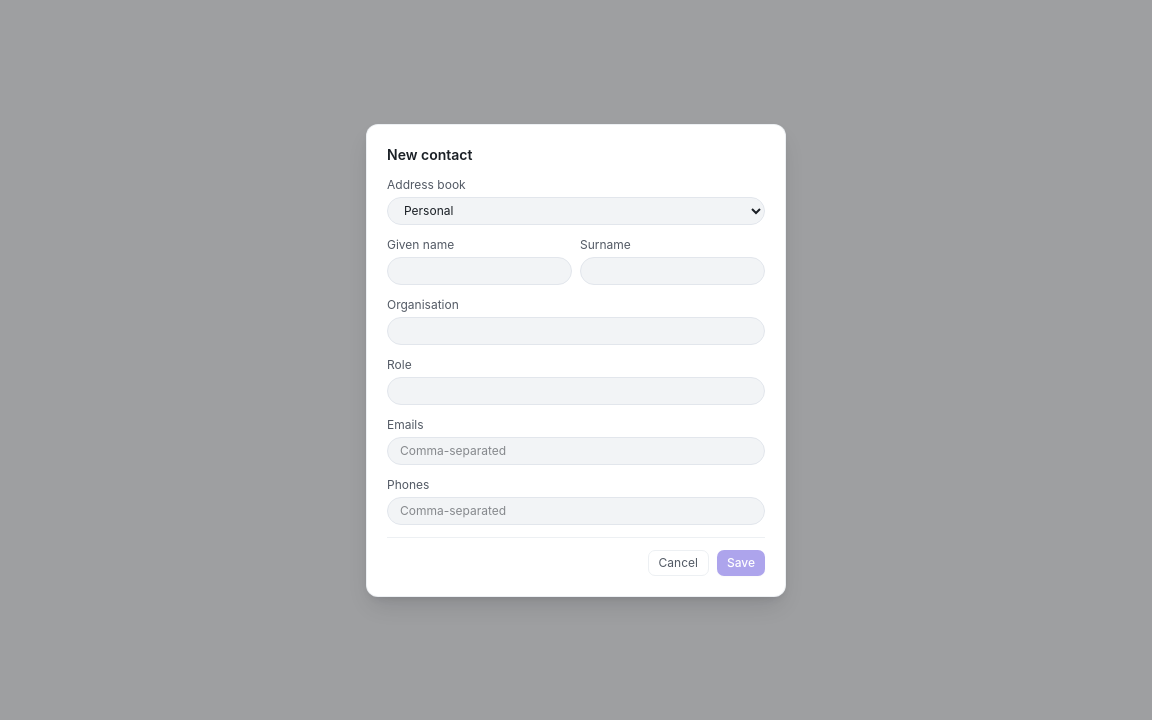
Test case: the contact editor › offers no save while a create names nothing to file it under
This screenshot has width=1152, height=720.
Expected: the dropdown labelled "Address book" is shown, x1=387 y1=196 x2=765 y2=224
Expected: the button "Save" is disabled, x1=717 y1=550 x2=765 y2=576
Type "Astra" into the field labelled "Organisation".
click(576, 330); type("Astra")  # box x1=387 y1=316 x2=765 y2=344
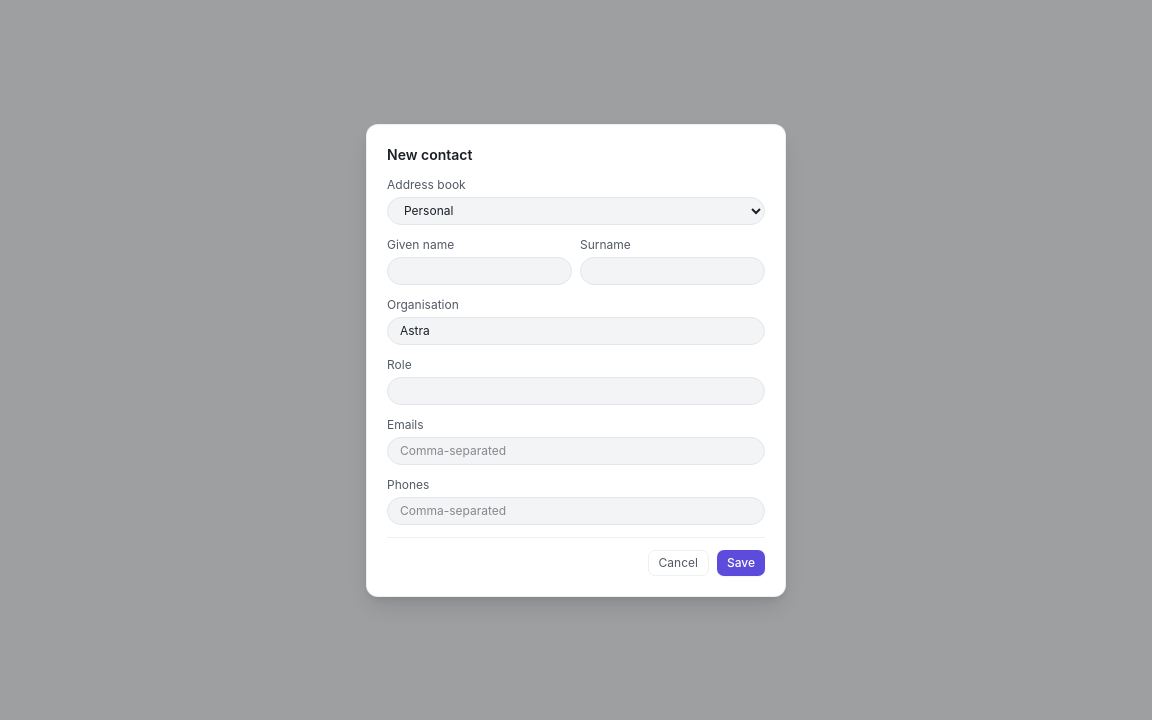
Expected: the button "Save" is enabled, x1=717 y1=550 x2=765 y2=576
Clear the field labelled "Organisation" at [576, 330], box x1=387 y1=316 x2=765 y2=344
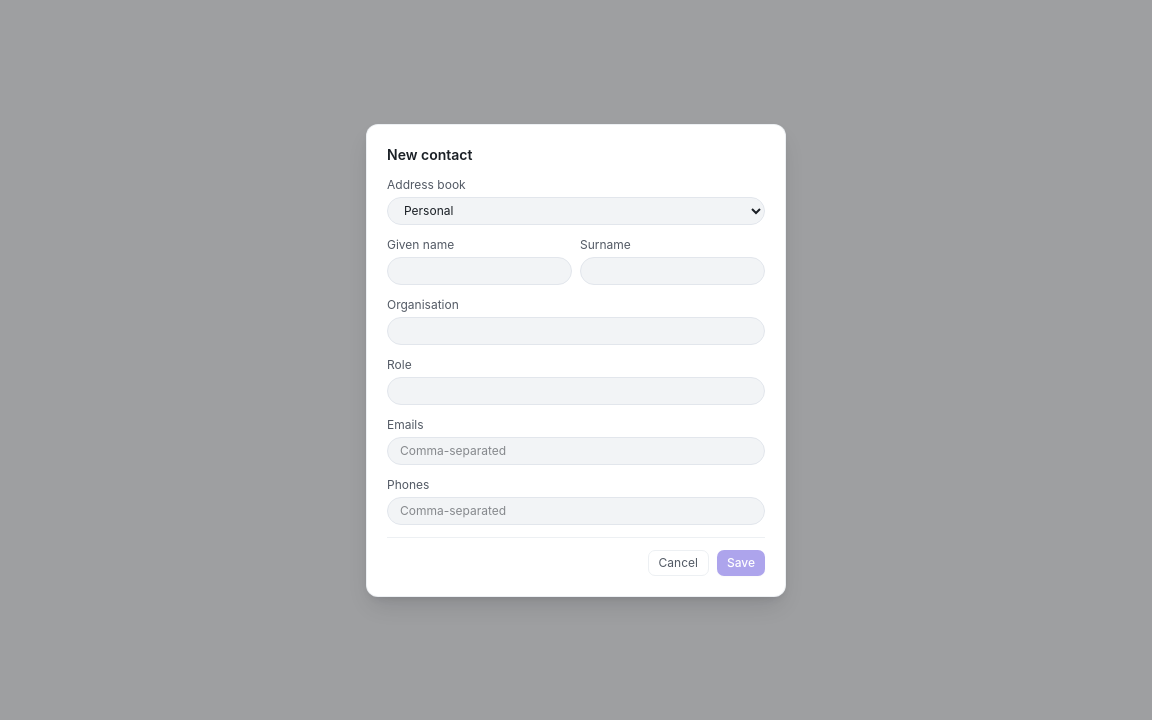
Expected: the button "Save" is disabled, x1=717 y1=550 x2=765 y2=576
Type "bea@example.test" into the field labelled "Emails".
click(576, 450); type("bea@example.test")  # box x1=387 y1=436 x2=765 y2=464
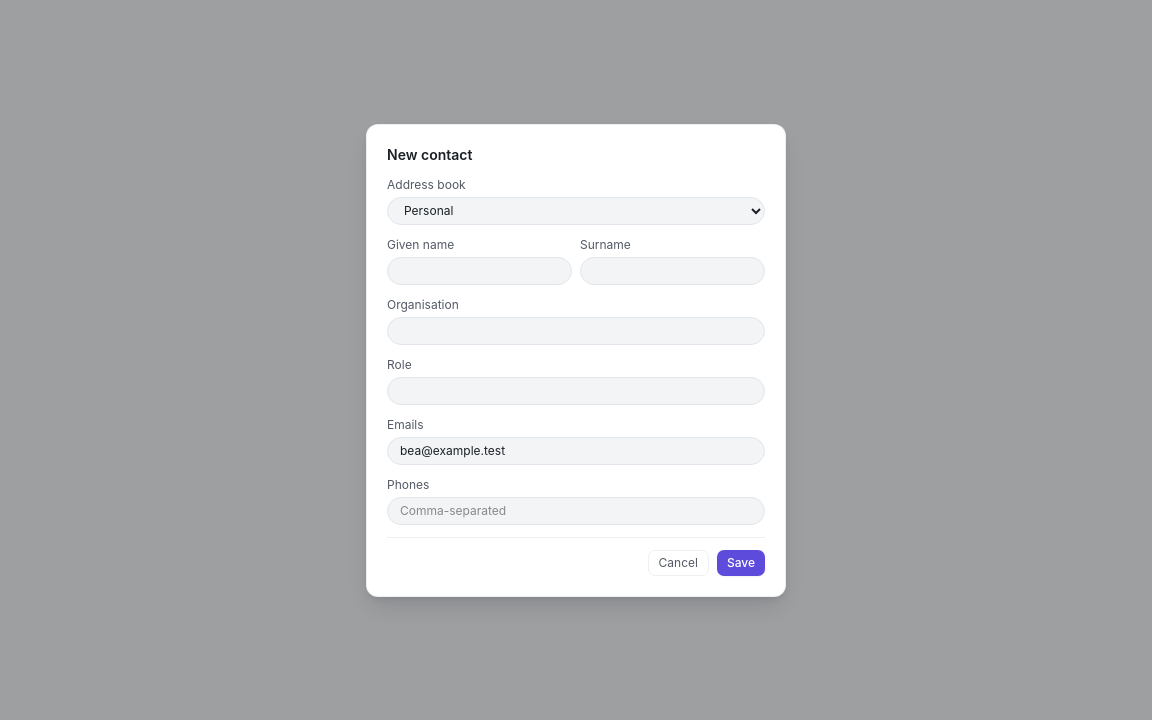
Expected: the button "Save" is enabled, x1=717 y1=550 x2=765 y2=576
